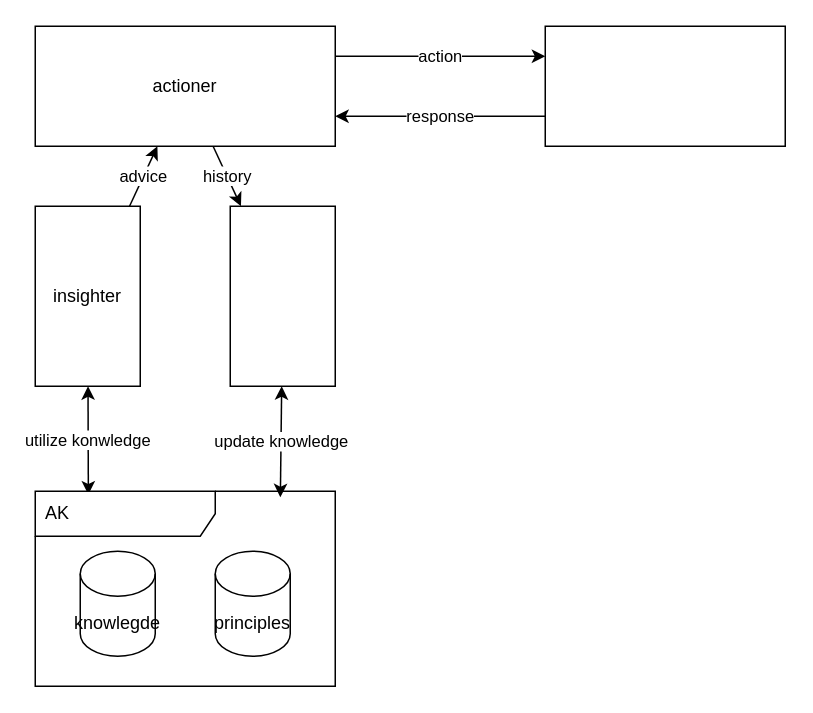
Some shapes in this 813 by 713 pixel diagram are drawn without their labels. The shapes that lost their labels are listed below. From the top down, each one's centre as x and y in pixels, then its label:
(x=664, y=85): Env
(x=282, y=295): learner
